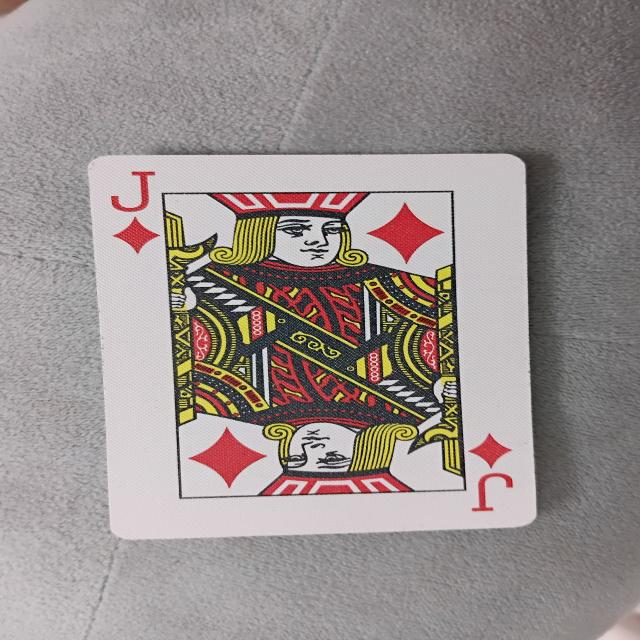JD: (90, 162, 532, 520)
